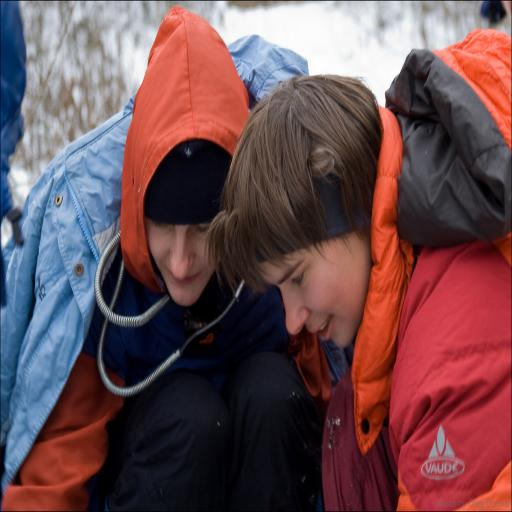Person: (168, 80, 512, 457)
no_goggle: (235, 232, 328, 290)
no_helmet: (187, 111, 397, 343)
none: (394, 134, 512, 422)
